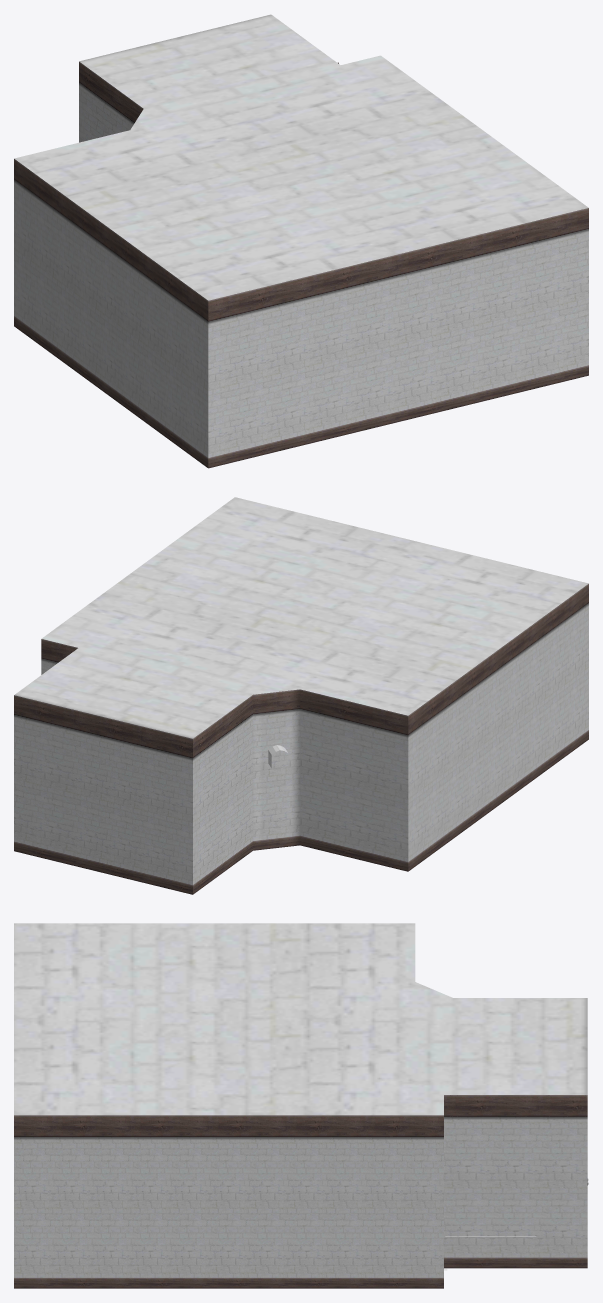
File: Shop.obj
3 views of the same model, one above another, from view 1: azimuth 30°, elevation 25°; view 2: azimuth 150°, elevation 25°; view 3: azimuth 270°, elevation 25° (orthographic). The views are drawn at different scales.
Parts seen in each view (by area): view 1: vsn_mesh_6_polySurface1334; view 2: vsn_mesh_6_polySurface1334; view 3: vsn_mesh_6_polySurface1334.
Boxes of the visible parts, <box> form: vsn_mesh_6_polySurface1334: <box>14,14,588,468</box>; vsn_mesh_6_polySurface1334: <box>14,497,588,894</box>; vsn_mesh_6_polySurface1334: <box>14,923,587,1288</box>.
Size of the model in its own units: 47.5 by 20 by 60.16.
Materials: 14 (11 with a texture image).
